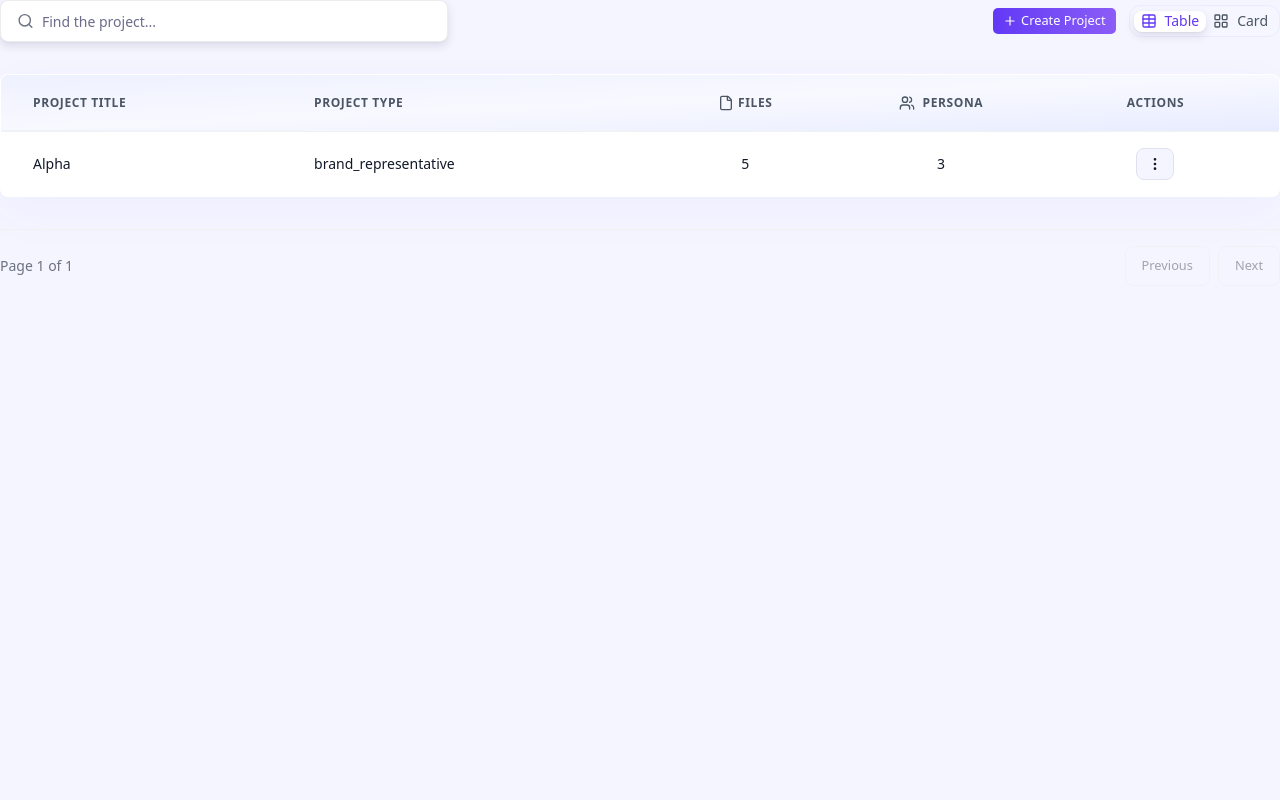
Test case: DataTable › opens the edit dialog from a row's action menu
Click the button with test id "ACTION_Alpha".
click(1156, 164)  # box [1136, 148, 1174, 180]
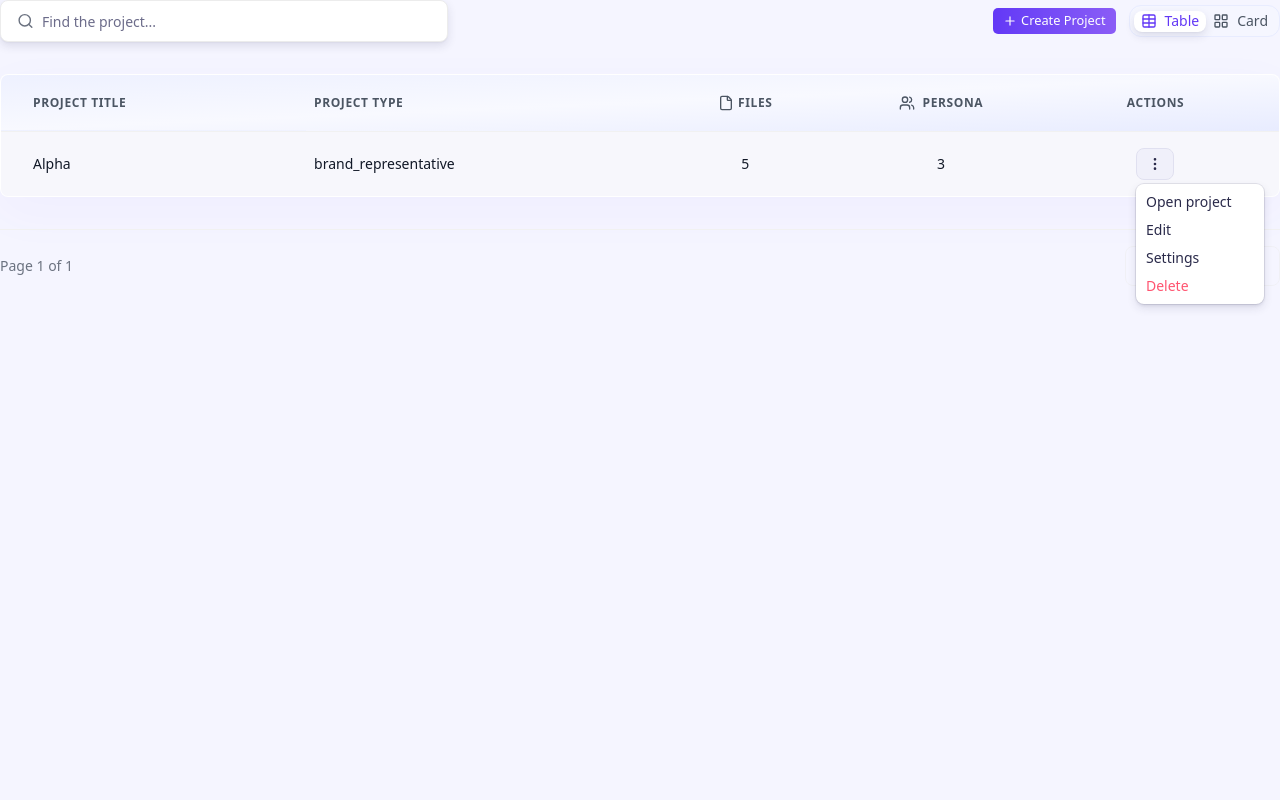
Click the menu item "Edit".
click(1159, 230)  # box [1146, 220, 1171, 239]
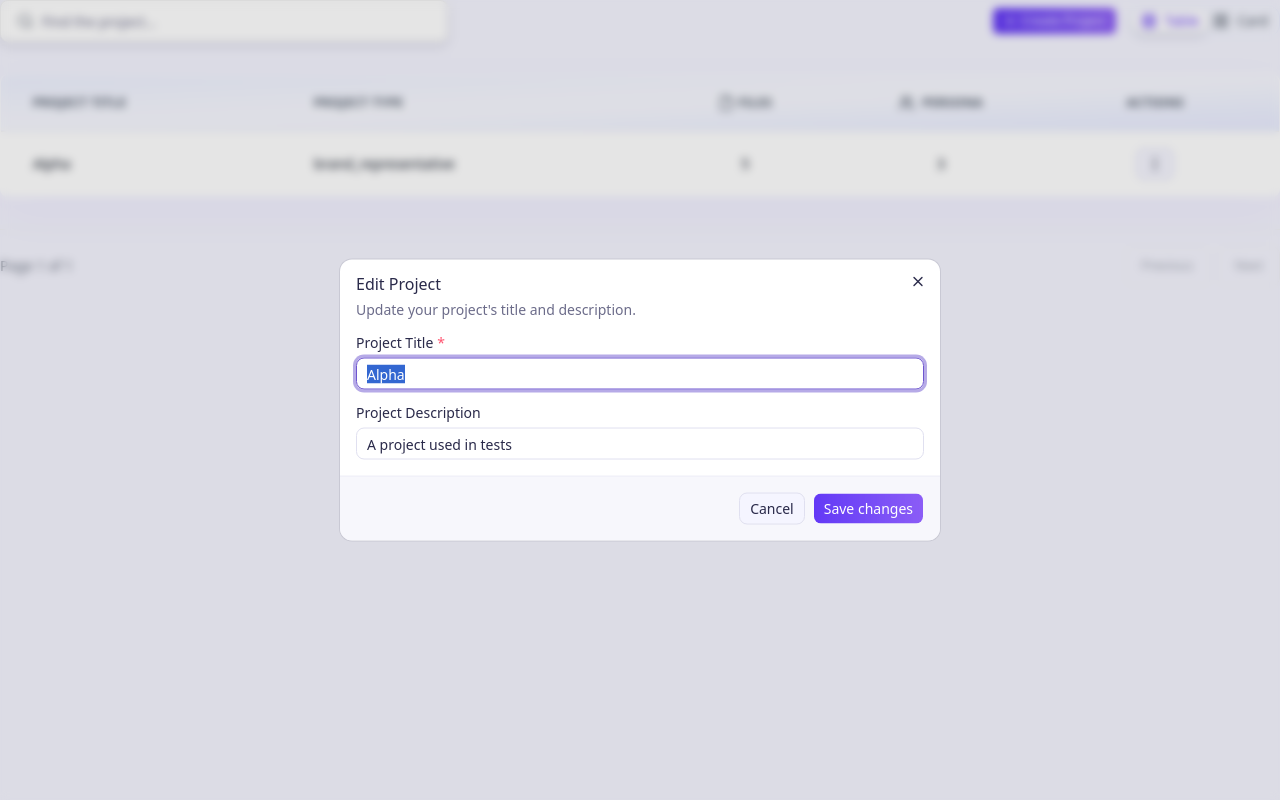
Expected: the heading "Edit Project" is shown, [356, 272, 441, 294]
